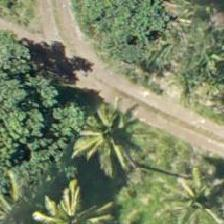coconut_tree: (54, 95, 144, 185), (152, 146, 223, 223), (16, 173, 106, 223)
